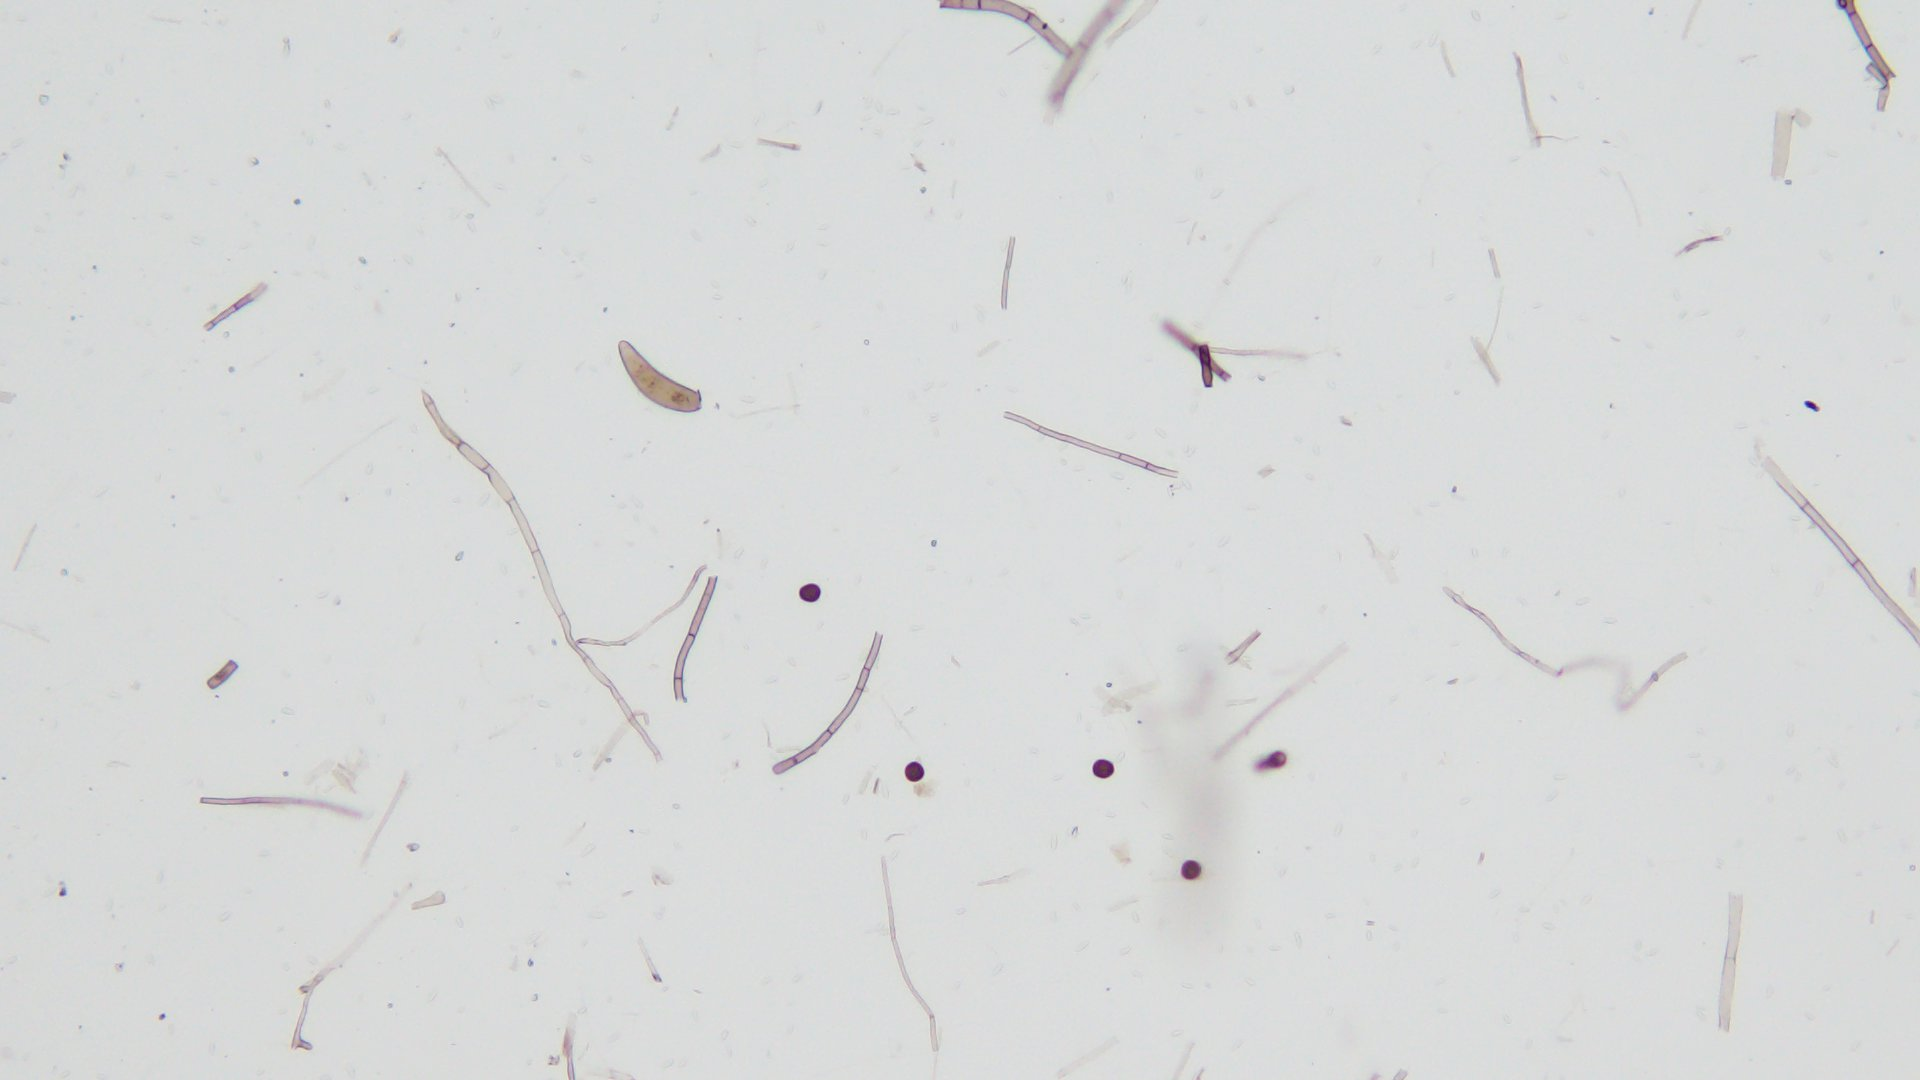dbb_spore: (616, 340, 703, 418)
shs_spore: (1088, 760, 1116, 781), (796, 582, 822, 603), (1180, 860, 1203, 882), (905, 761, 924, 781)
